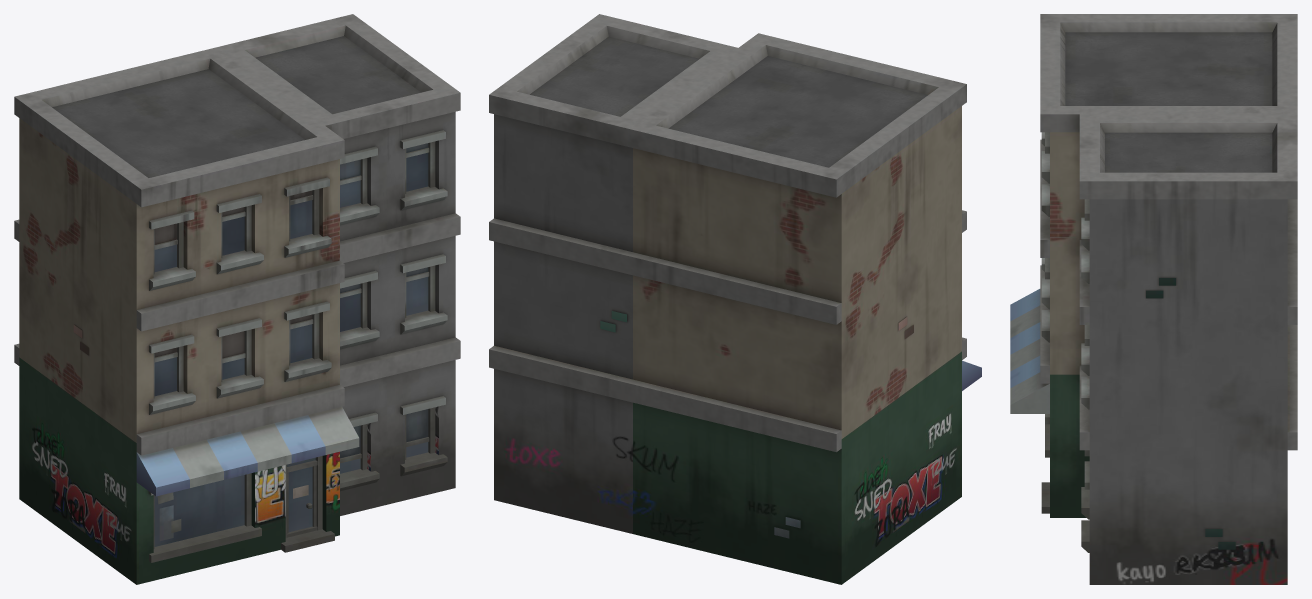
Rendered from building_G.glb.
3 views of the same model, side by side, from view 1: azimuth 30°, elevation 25°; view 2: azimuth 150°, elevation 25°; view 3: azimuth 270°, elevation 25° (orthographic). The views are drawn at different scales.
Parts seen in each view (by area): view 1: building_G_withoutBase; view 2: building_G_withoutBase; view 3: building_G_withoutBase.
Boxes of the visible parts, x1,y1,x2,y2 form: building_G_withoutBase: (14, 14, 460, 584); building_G_withoutBase: (489, 14, 981, 584); building_G_withoutBase: (1010, 14, 1297, 584).
Bounding box in the file's own units: 2.01 × 2.25 × 1.45.
Materials: 2 (2 with a texture image).
